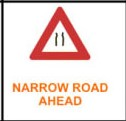Traffic signal: (29, 6, 92, 62)
